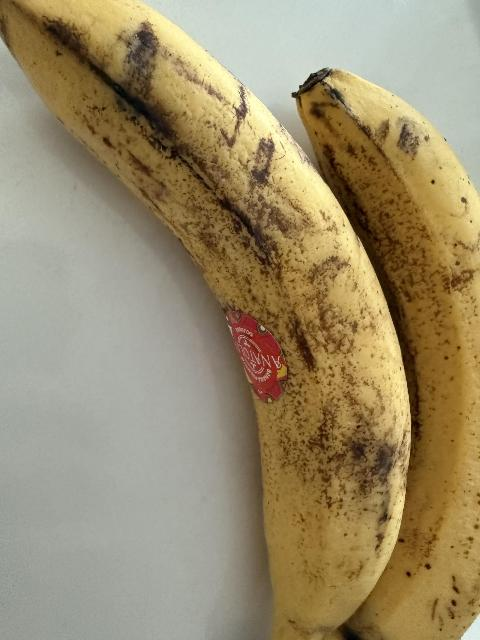Organik: (0, 3, 480, 640)
Plastik: (225, 317, 284, 398)
